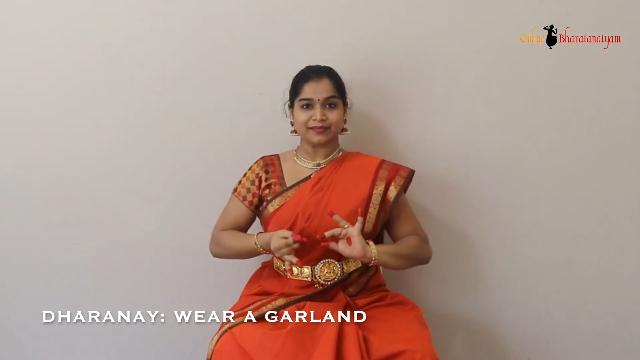katak: (308, 197, 378, 270), (268, 214, 322, 284)
